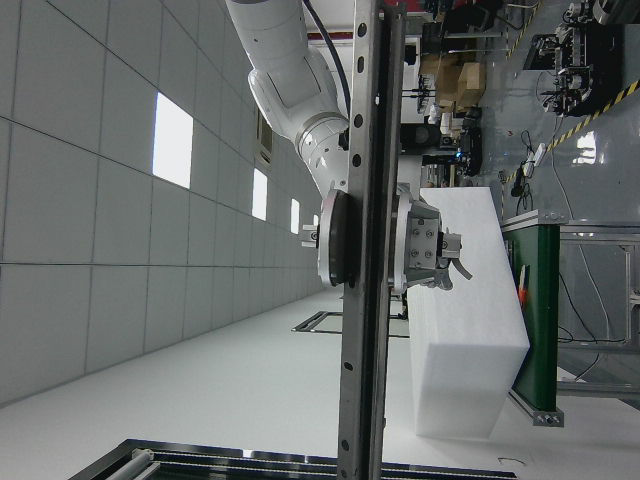right: (337, 13, 403, 475)
